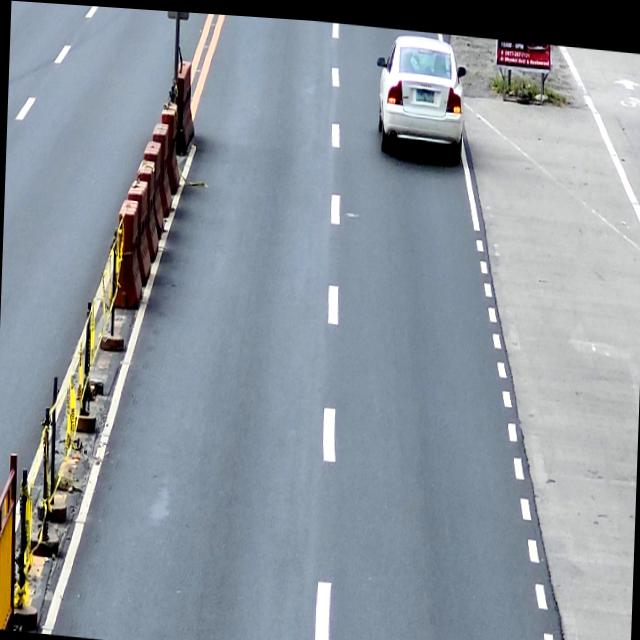Car: (373, 23, 467, 157)
License-Plate: (413, 80, 435, 97)
